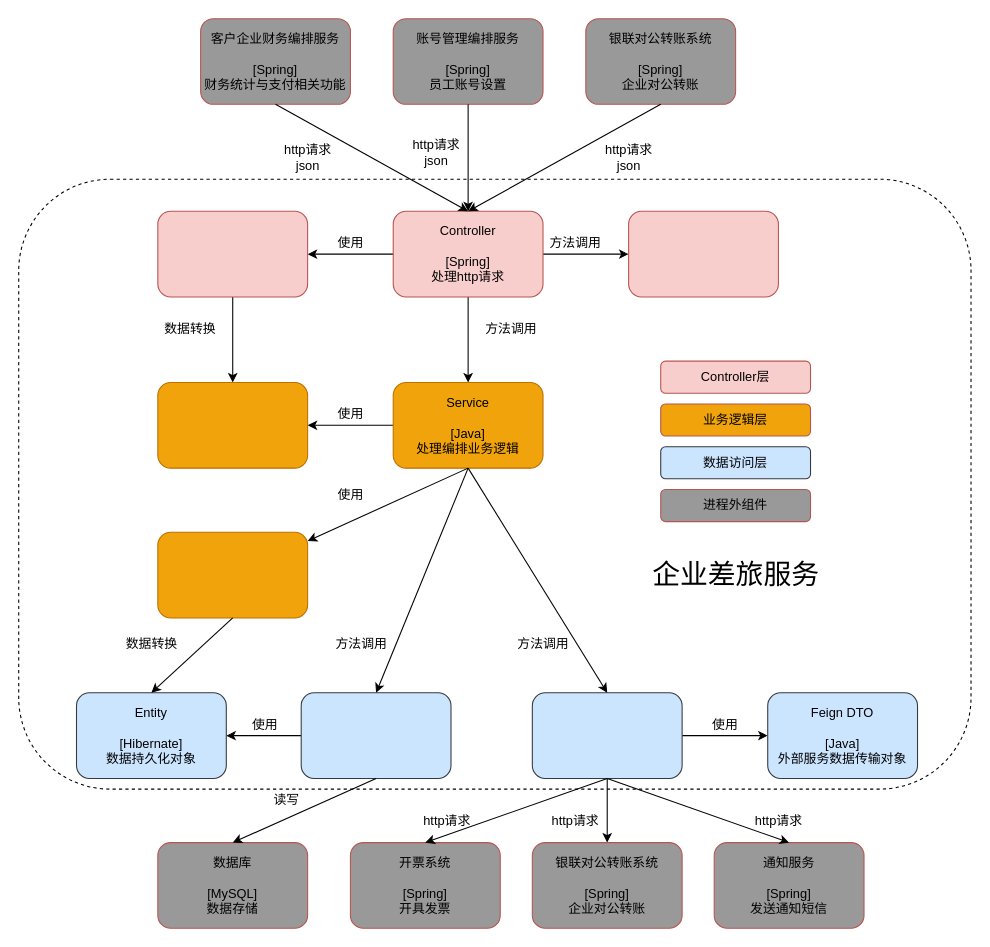
This 990x947 diagram has some shape labels left out. The centre of each missing label's shape, as x and y in pixels:
DTO [Java] 数据传输对象: the point at 232,253
Exception Handler [Spring] 全局异常处理: the point at 703,253
Http Client [Feign] 调用外部服务: the point at 606,735
Model [Java] 封装业务逻辑: the point at 232,574
Model DTO [Java] 业务逻辑层数据传输对象: the point at 232,424
Repository [Spring Data JPA] 数据存储: the point at 375,735
